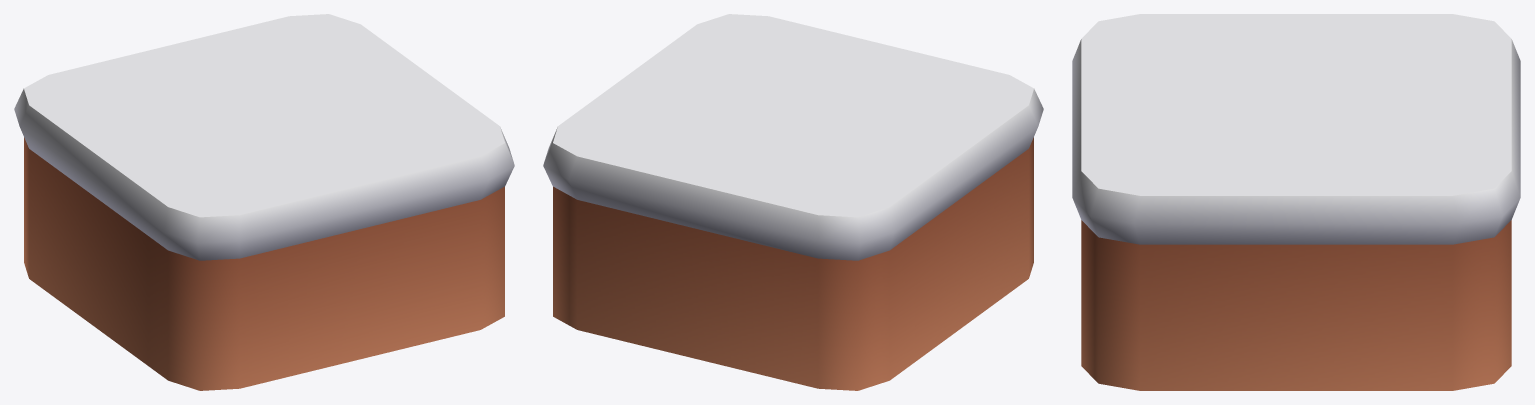
The model's file is block-snow-large.glb.
3 views of the same model, side by side, from view 1: azimuth 30°, elevation 25°; view 2: azimuth 150°, elevation 25°; view 3: azimuth 270°, elevation 25° (orthographic). The views are drawn at different scales.
Visible parts, largest first — view 1: block-snow-large; view 2: block-snow-large; view 3: block-snow-large.
Boxes of the visible parts, x1,y1,x2,y2 form: block-snow-large: (14,14,514,390); block-snow-large: (543,14,1043,390); block-snow-large: (1072,14,1520,390).
Bounding box in the file's own units: 2.08 × 1 × 2.08.
1 material, 1 textured.
